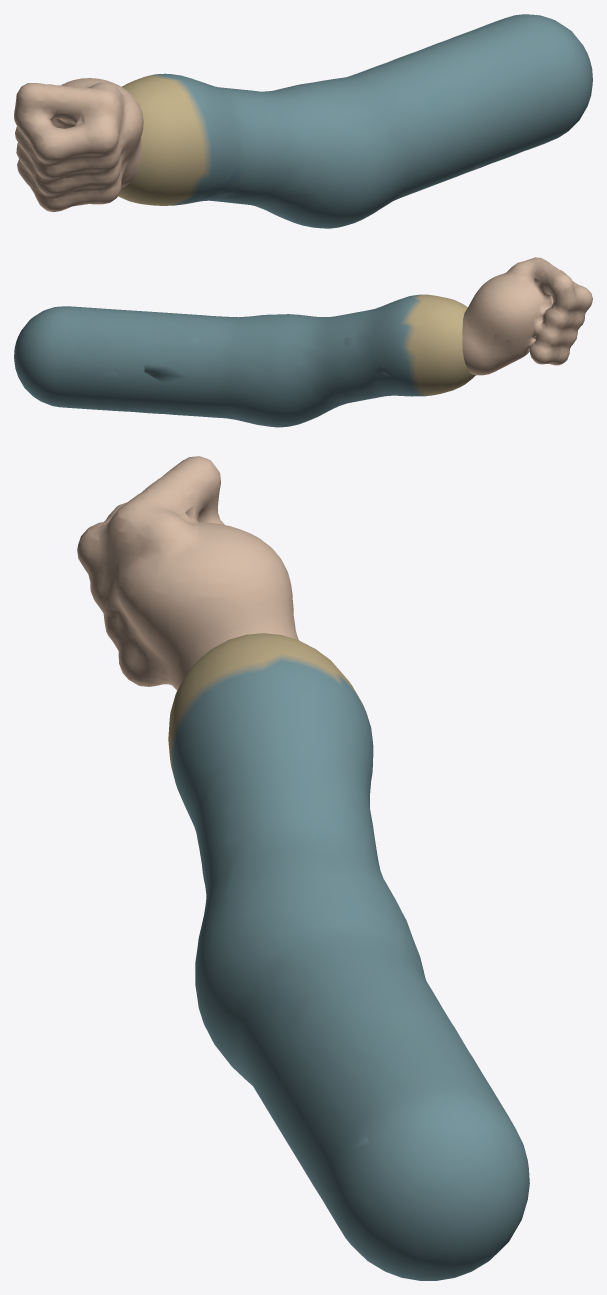
Rendered from FP_Arm_Left.fbx.
The picture shows the model from 3 angles, top to bottom: view 1: azimuth 30°, elevation 25°; view 2: azimuth 150°, elevation 25°; view 3: azimuth 270°, elevation 25°; orthographic projection. The views are drawn at different scales.
Visible parts, largest first — view 1: FP_Arm_Left; view 2: FP_Arm_Left; view 3: FP_Arm_Left.
Boxes of the visible parts, x1,y1,x2,y2 form: FP_Arm_Left: (14,14,592,228); FP_Arm_Left: (14,257,592,427); FP_Arm_Left: (77,456,529,1280).
Bounding box in the file's own units: 0.7932 × 0.2937 × 0.3134.
